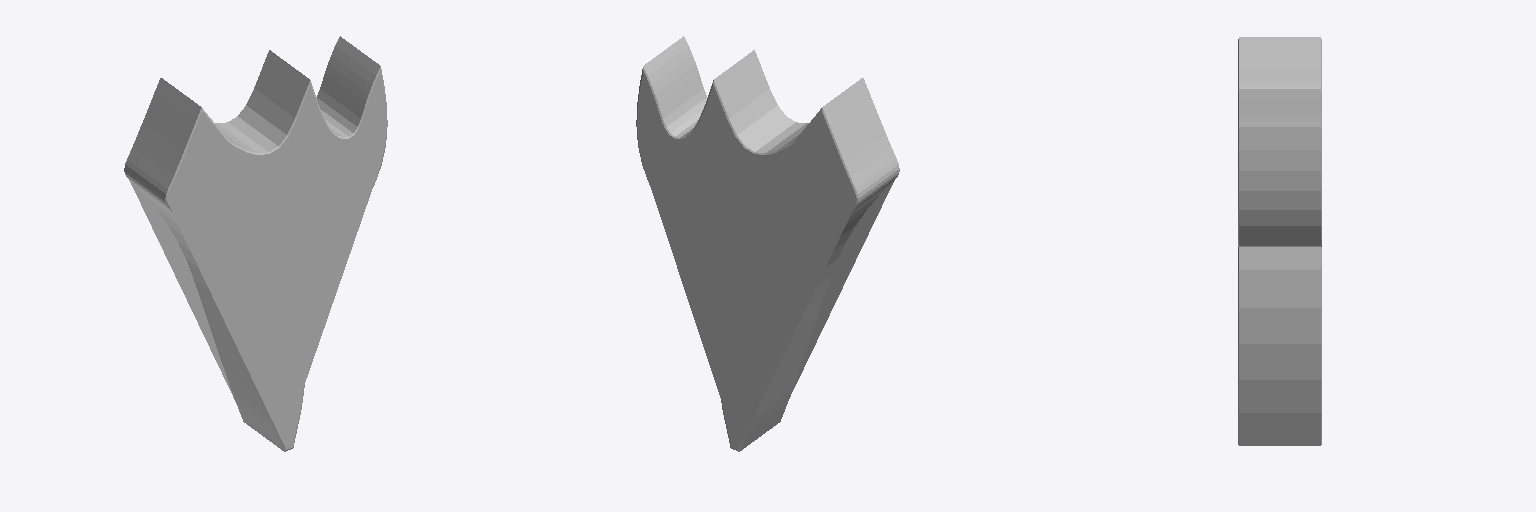
3 renders of one model, left to right at view 1: azimuth 30°, elevation 25°; view 2: azimuth 150°, elevation 25°; view 3: azimuth 270°, elevation 25°, orthographic.
Parts seen in each view (by area): view 1: 3_Mesh.004; view 2: 3_Mesh.004; view 3: 3_Mesh.004.
Part boxes in pixels (left/top/right/bottom): 3_Mesh.004: left=124, top=36, right=387, bottom=451; 3_Mesh.004: left=636, top=36, right=899, bottom=451; 3_Mesh.004: left=1238, top=37, right=1321, bottom=445.
Size of the model in its own units: 2.2 by 3.46 by 0.7176.